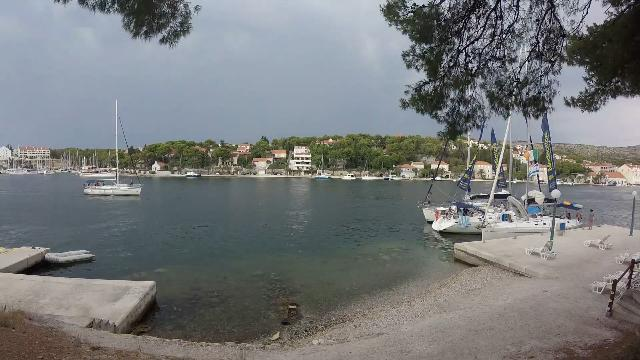Sailboat: (80, 176, 148, 200)
